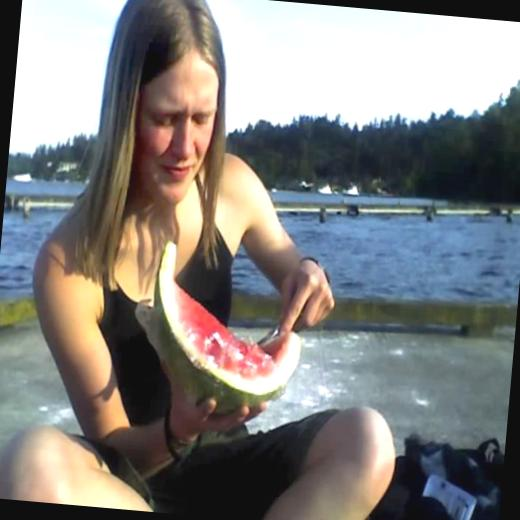Cherry: (142, 242, 310, 426)
